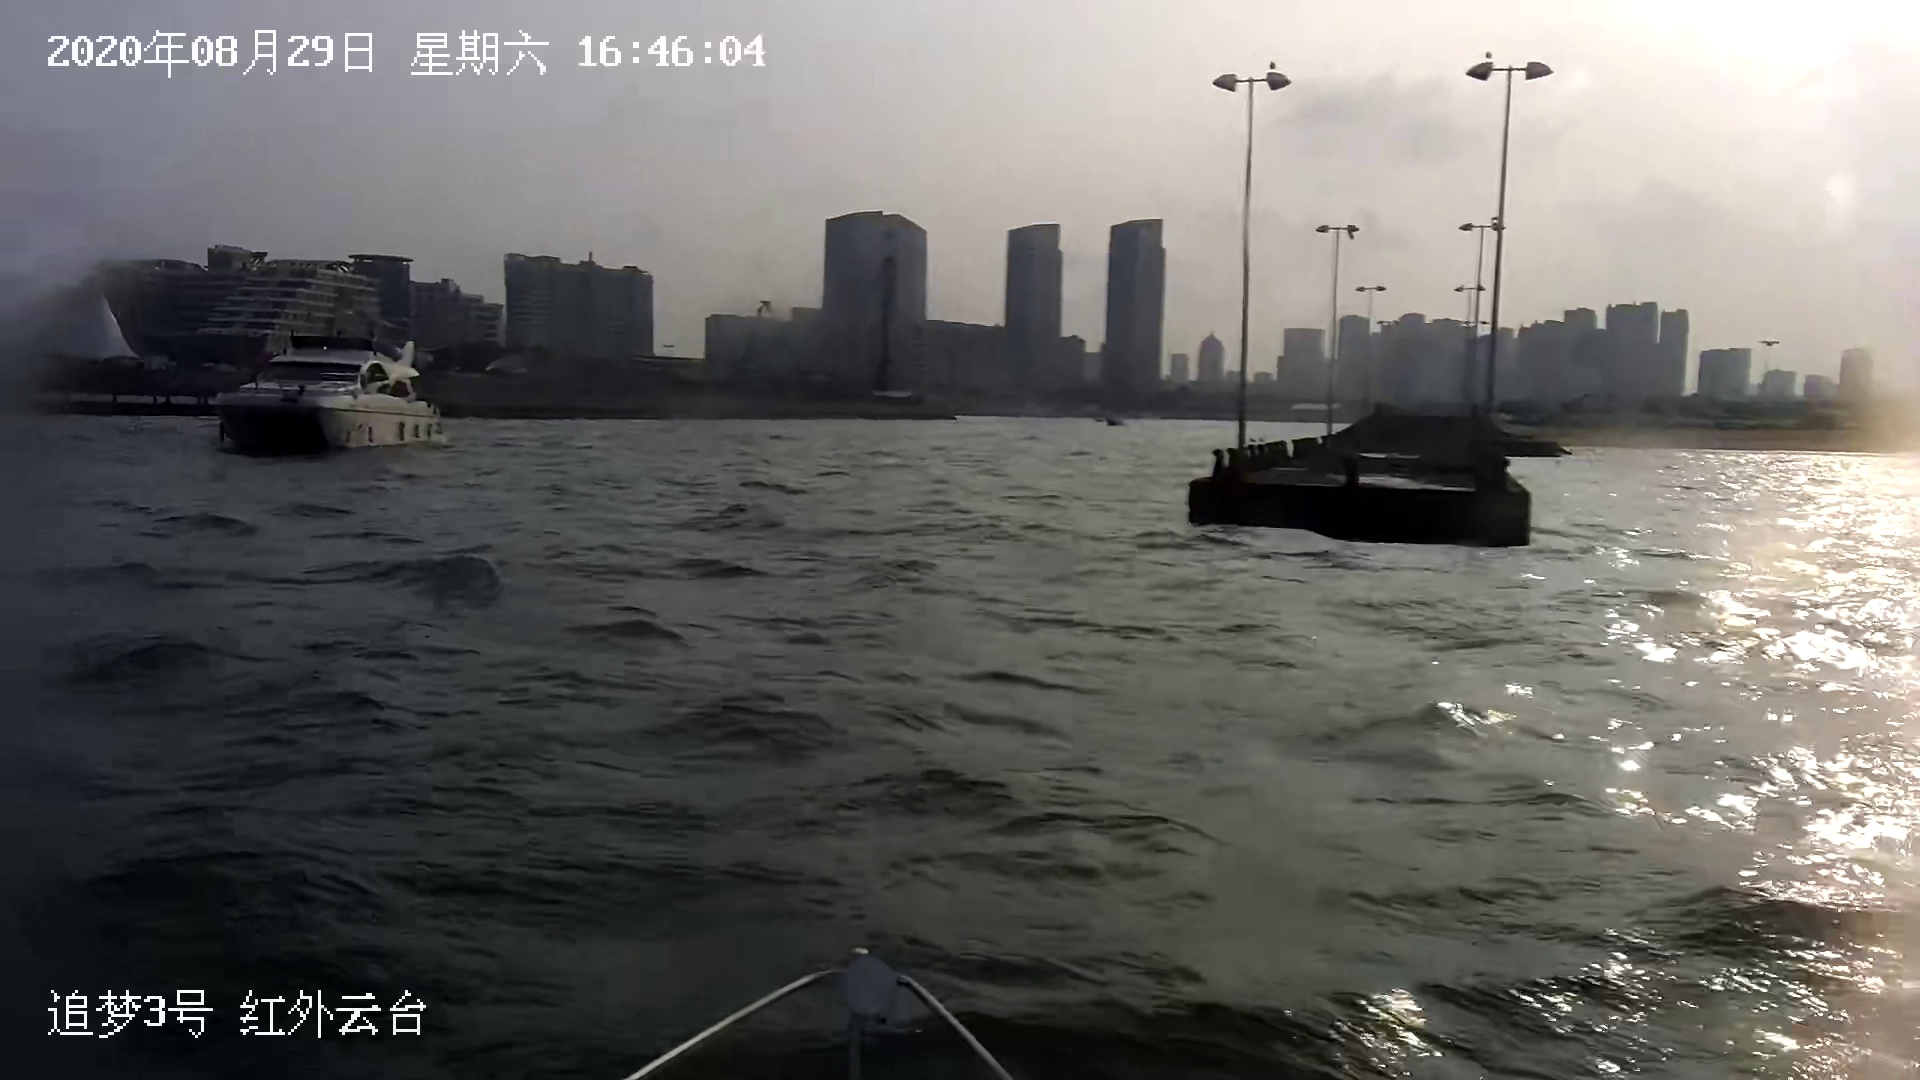barrier: (212, 330, 458, 456)
coast: (5, 47, 1911, 553)
